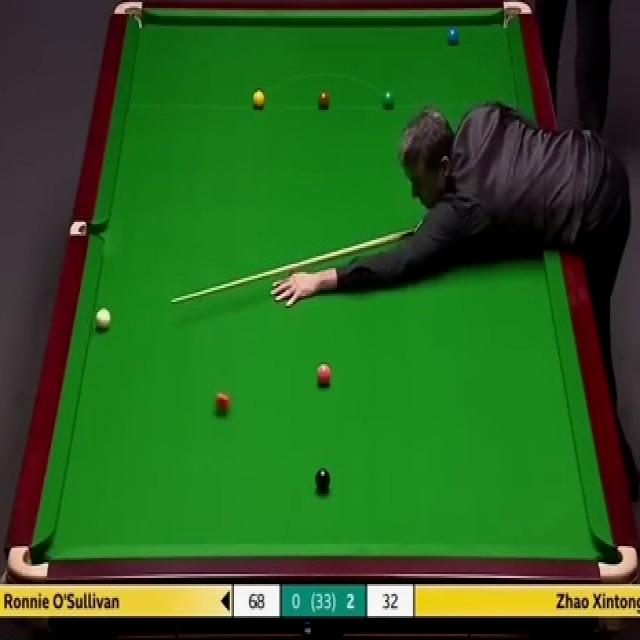black-ball: (314, 467, 331, 493)
blue-ball: (446, 27, 459, 44)
brown-ball: (316, 88, 331, 110)
green-ball: (380, 90, 395, 110)
pink-ball: (315, 363, 331, 386)
red-ball: (215, 392, 231, 416)
white-ball: (94, 306, 111, 332)
yellow-ball: (252, 88, 265, 109)
